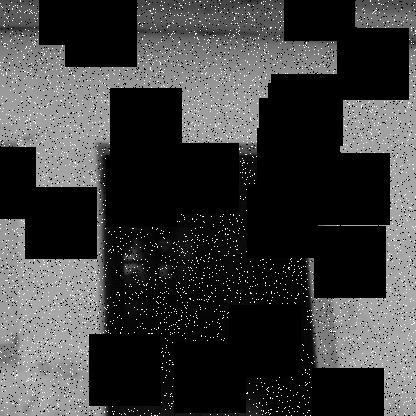Porte: (94, 142, 346, 416)
